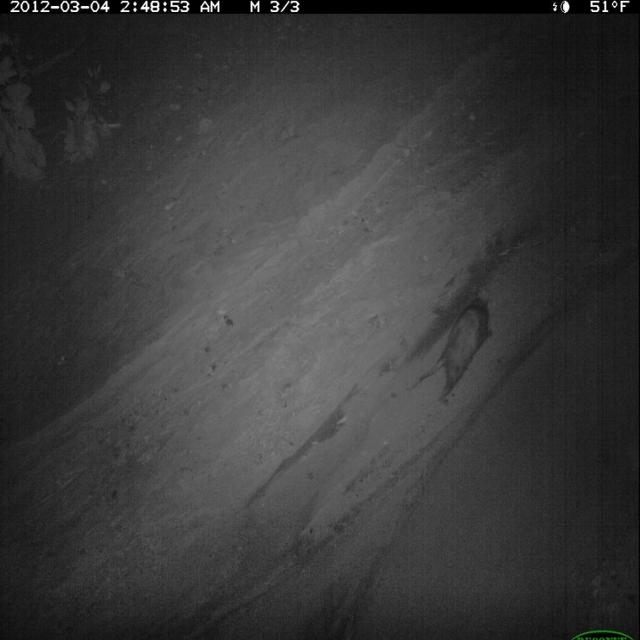opossum: (406, 286, 496, 409)
